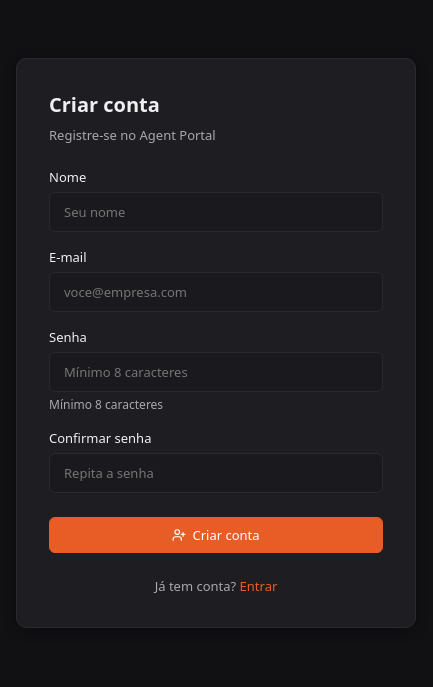
Test: RegisterPage › shows validation error for empty name
Click the button "Criar conta": (216, 535) [49,517,383,553]
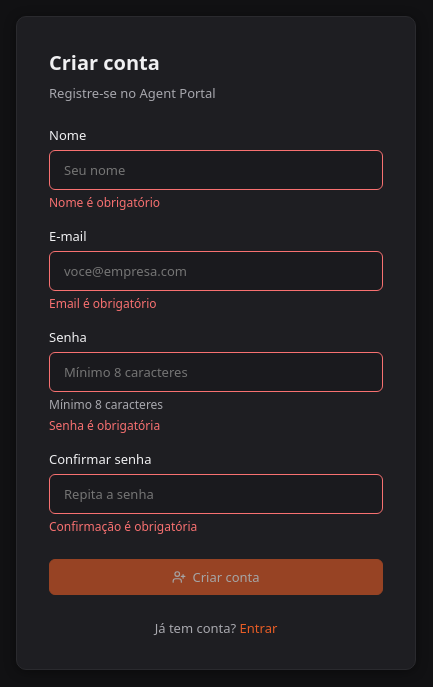
Check: the text "Nome é obrigatório" is shown, box [49,194,160,211]
